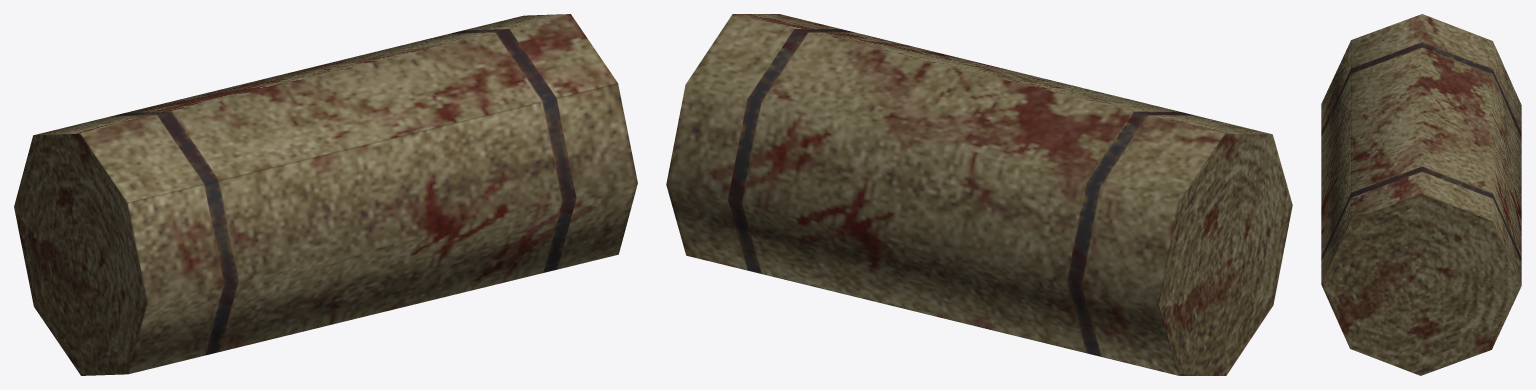
The model's file is SM_EC_Horror_Hay_3.fbx.
The picture shows the model from 3 angles, left to right: view 1: azimuth 30°, elevation 25°; view 2: azimuth 150°, elevation 25°; view 3: azimuth 270°, elevation 25°; orthographic projection. The views are drawn at different scales.
Visible parts, largest first — view 1: SM_EC_Horror_Hay_3; view 2: SM_EC_Horror_Hay_3; view 3: SM_EC_Horror_Hay_3.
Boxes of the visible parts, x1,y1,x2,y2 form: SM_EC_Horror_Hay_3: [14, 14, 637, 375]; SM_EC_Horror_Hay_3: [666, 14, 1292, 375]; SM_EC_Horror_Hay_3: [1321, 14, 1521, 375].
Size of the model in its own units: 1.95 by 0.9165 by 0.9165.
